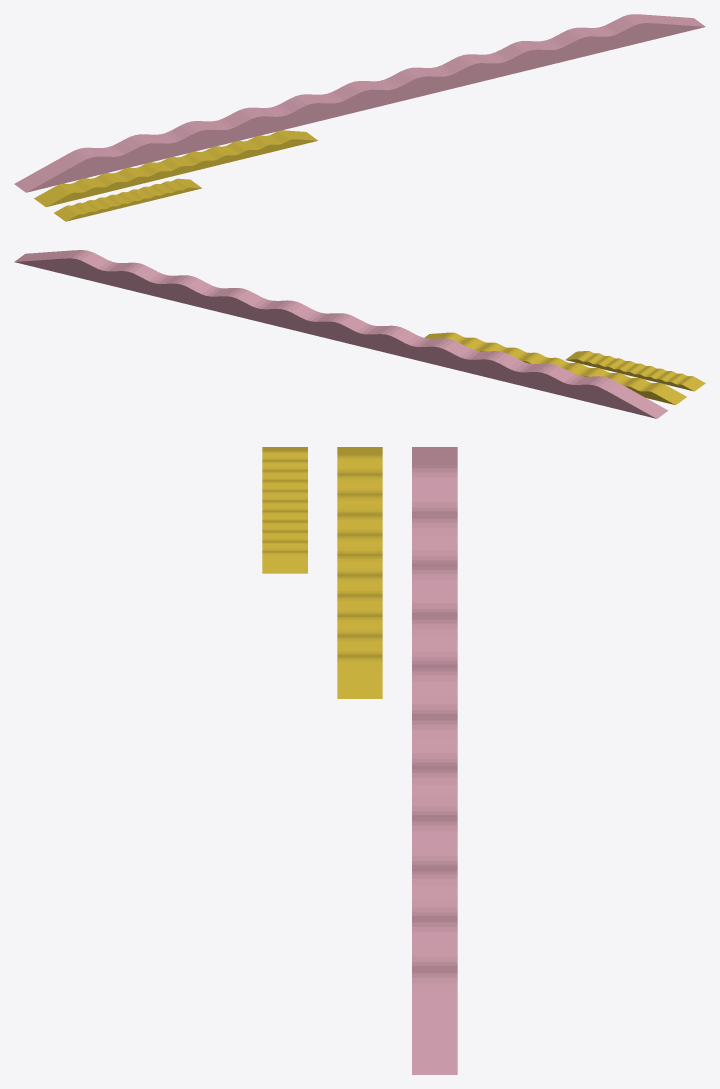
File: terrain_test.dae
3 views of the same model, one above another, from view 1: azimuth 30°, elevation 25°; view 2: azimuth 150°, elevation 25°; view 3: azimuth 270°, elevation 25° (orthographic). The views are drawn at different scales.
Visible parts, largest first — view 1: sinewave_model_3, sinewave_model_2, sinewave_model_1; view 2: sinewave_model_3, sinewave_model_2, sinewave_model_1; view 3: sinewave_model_3, sinewave_model_2, sinewave_model_1.
Boxes of the visible parts, bbox=[...] form: sinewave_model_3: bbox=[14, 14, 705, 192]; sinewave_model_2: bbox=[34, 130, 317, 206]; sinewave_model_1: bbox=[54, 178, 201, 221]; sinewave_model_3: bbox=[14, 250, 668, 418]; sinewave_model_2: bbox=[424, 332, 686, 405]; sinewave_model_1: bbox=[565, 351, 705, 391]; sinewave_model_3: bbox=[412, 447, 457, 1074]; sinewave_model_2: bbox=[337, 447, 382, 698]; sinewave_model_1: bbox=[262, 447, 307, 573].
Size of the model in its own units: 99.2 by 13.05 by 2.69.
